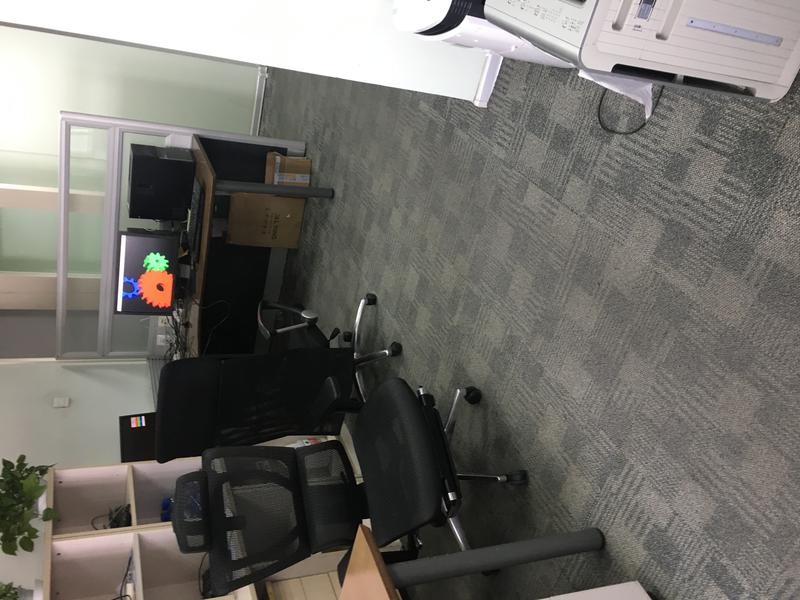glxgears_pass: (118, 245, 175, 312)
